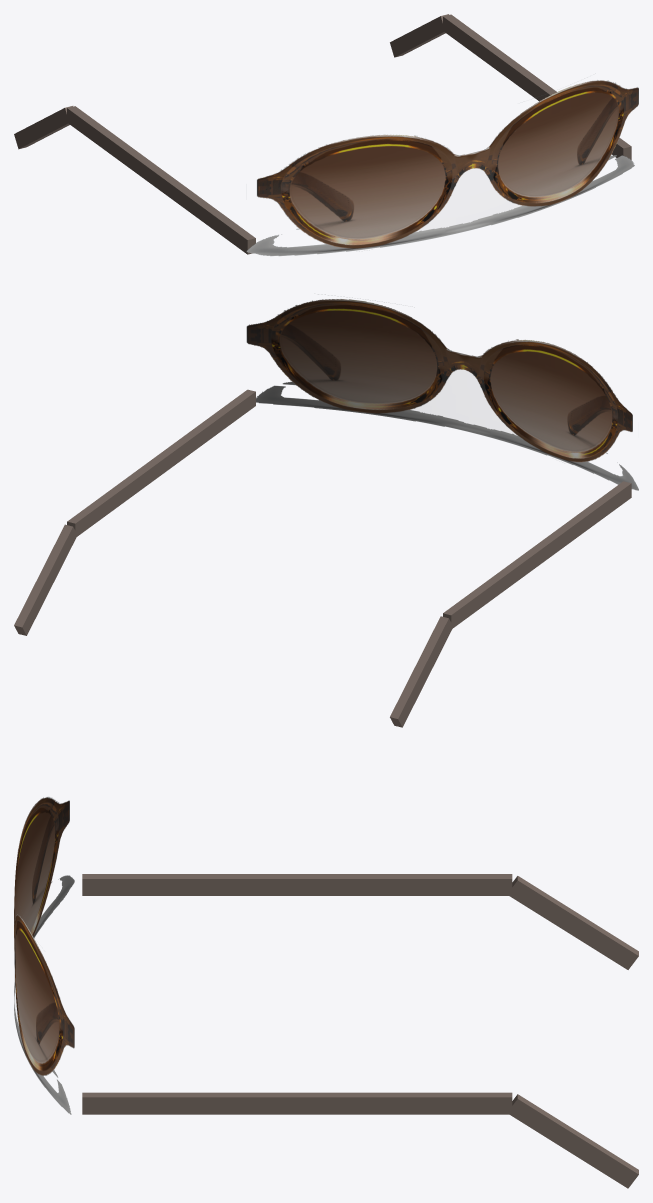
The picture shows the model from 3 angles, top to bottom: view 1: azimuth 30°, elevation 25°; view 2: azimuth 150°, elevation 25°; view 3: azimuth 270°, elevation 25°; orthographic projection. The views are drawn at different scales.
Visible parts, largest first — view 1: anteojo; view 2: anteojo; view 3: anteojo.
Part boxes in pixels (x1,y1,x2,y2): anteojo: [14, 14, 638, 255]; anteojo: [14, 299, 638, 727]; anteojo: [14, 797, 638, 1188].
Bounding box in the file's own units: 0.142 × 0.0601 × 0.1644.
2 materials, 1 textured.
